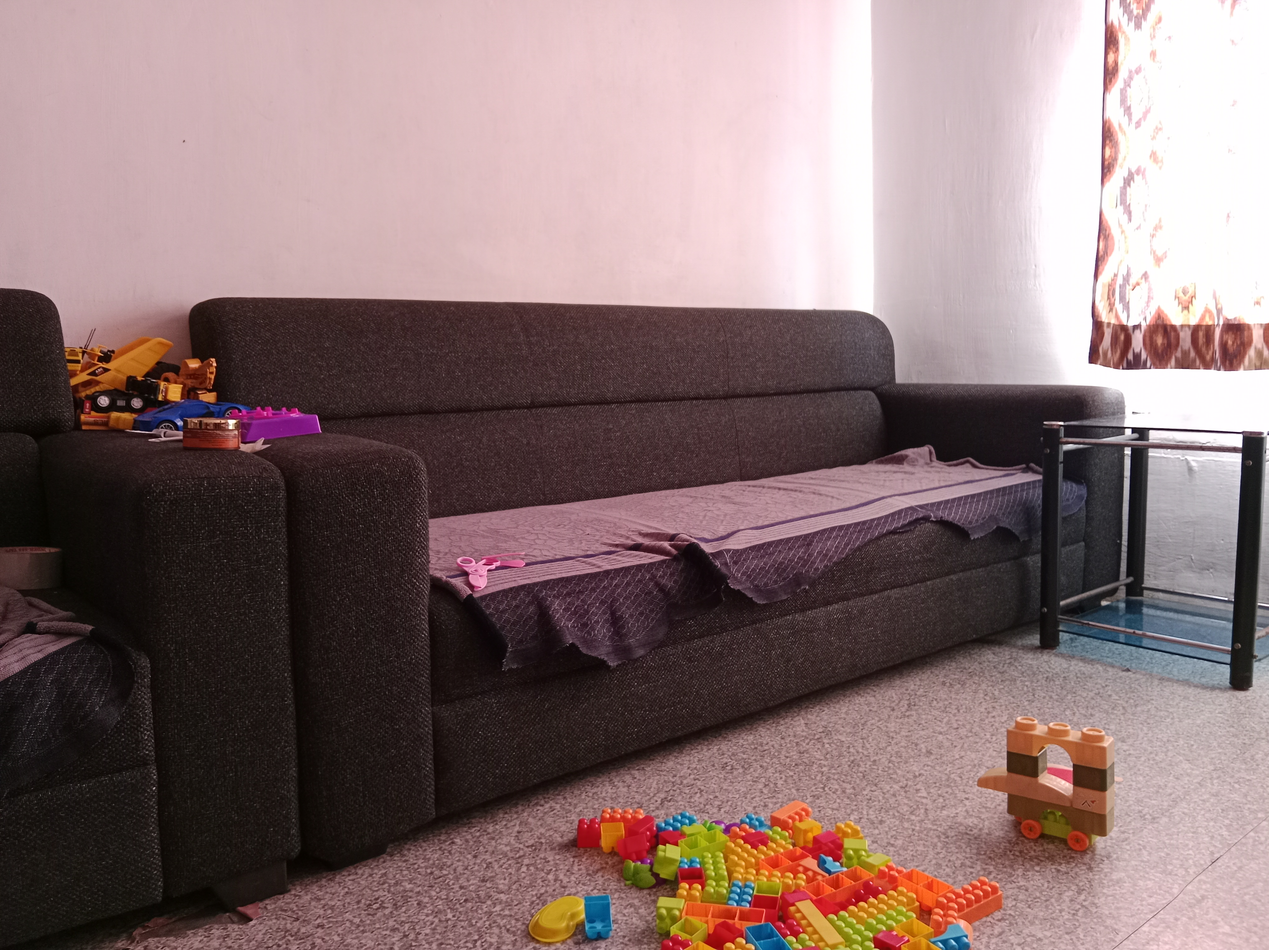sofa: (187, 300, 1126, 857), (0, 285, 304, 950)
